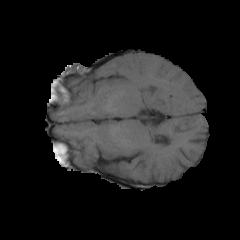glioma: (121, 74, 190, 106)
